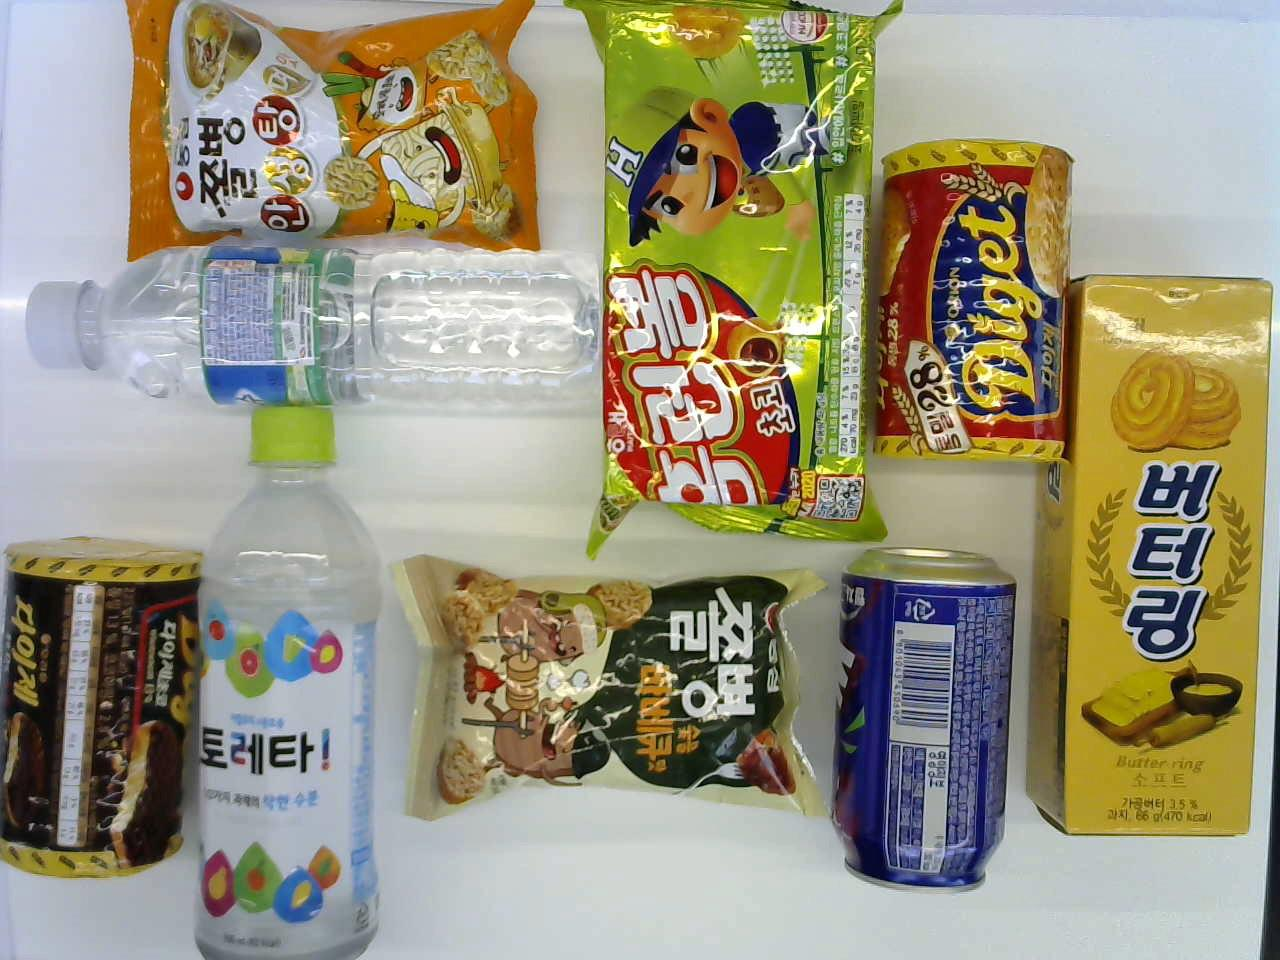buttering: (1029, 258, 1272, 840)
diget_choco: (4, 523, 189, 883)
diget_ori: (871, 137, 1083, 466)
homerunball: (590, 0, 891, 562)
jjolbyung_noodle: (114, 3, 529, 263)
jjolbyung_ori: (390, 556, 812, 828)
samdasu: (25, 241, 597, 409)
toreta: (189, 405, 386, 946)
welchs: (837, 548, 1018, 902)
